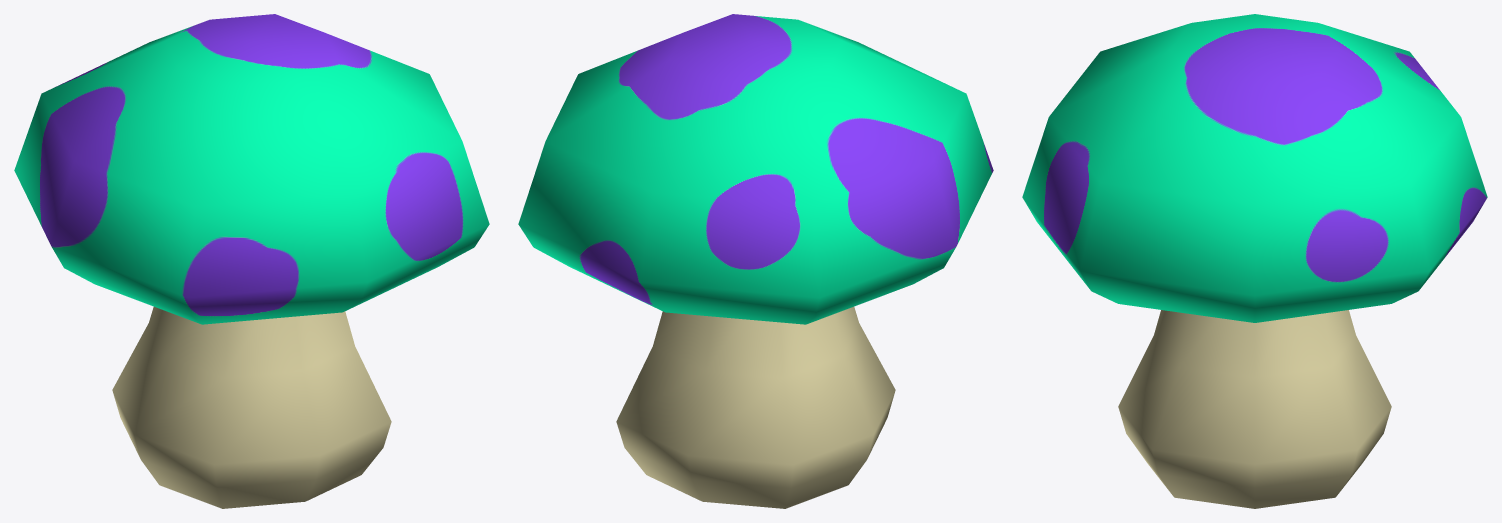
The model's file is Shroom.fbx.
3 renders of one model, left to right at view 1: azimuth 30°, elevation 25°; view 2: azimuth 150°, elevation 25°; view 3: azimuth 270°, elevation 25°, orthographic.
Visible parts, largest first — view 1: Cube; view 2: Cube; view 3: Cube.
Part boxes in pixels (left/top/right/bottom): Cube: left=14, top=14, right=489, bottom=508; Cube: left=518, top=14, right=993, bottom=508; Cube: left=1022, top=14, right=1487, bottom=508.
Bounding box in the file's own units: 49.48 × 49.56 × 49.48.
1 material, 1 textured.
